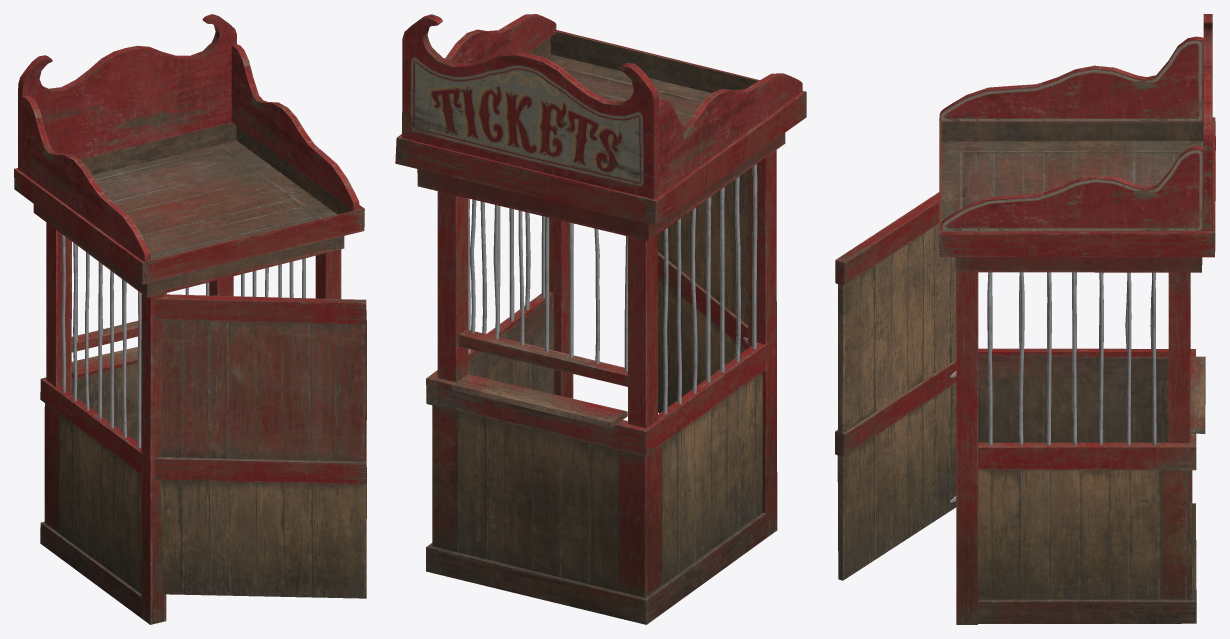
File: SM_TicketBox_A.fbx
3 views of the same model, side by side, from view 1: azimuth 30°, elevation 25°; view 2: azimuth 150°, elevation 25°; view 3: azimuth 270°, elevation 25° (orthographic). The views are drawn at different scales.
Visible parts, largest first — view 1: SM_TicketBox_A_LOD0; view 2: SM_TicketBox_A_LOD0; view 3: SM_TicketBox_A_LOD0.
Part boxes in pixels (box(x1,y1,x2,y2)): SM_TicketBox_A_LOD0: box(14, 14, 366, 624); SM_TicketBox_A_LOD0: box(395, 14, 806, 624); SM_TicketBox_A_LOD0: box(835, 14, 1215, 624).
Size of the model in its own units: 185 by 256 by 382.
1 material, 1 textured.
